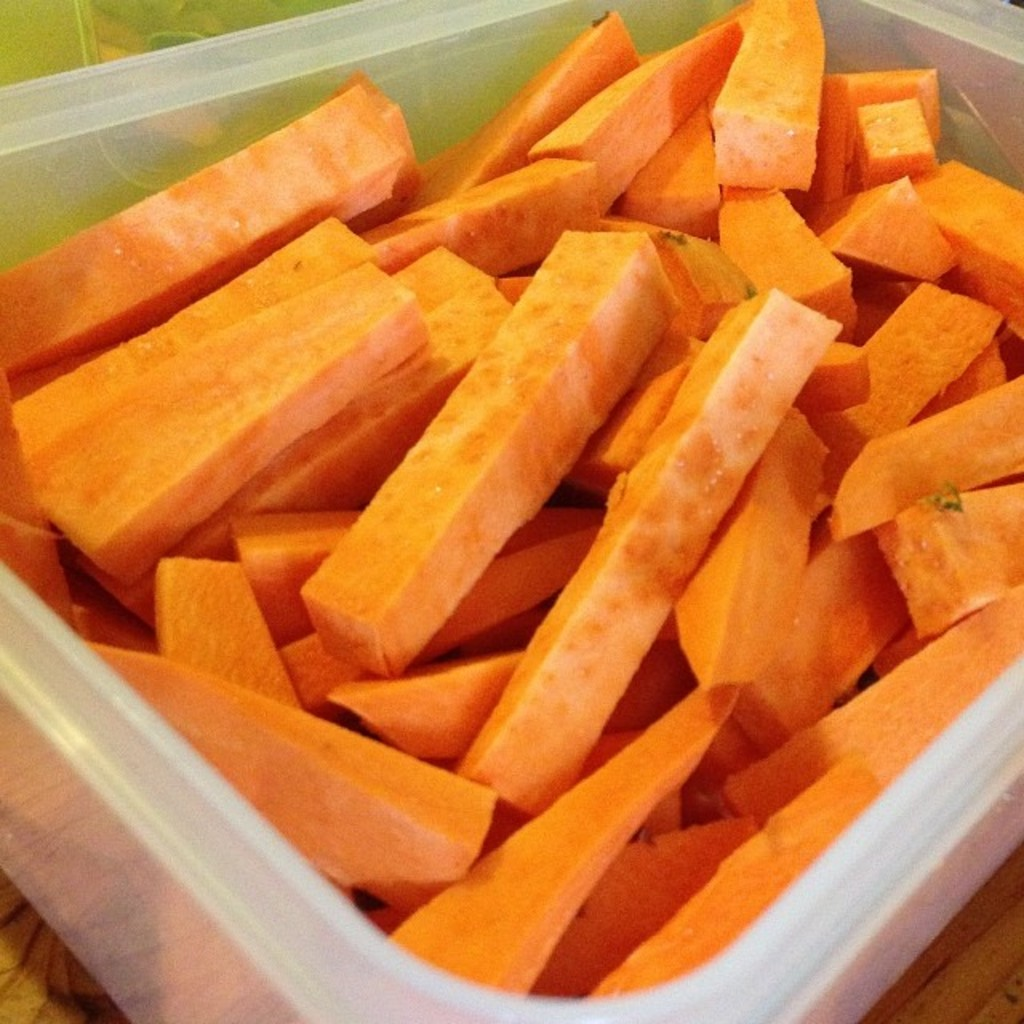Carrot: (0, 0, 1024, 998)
